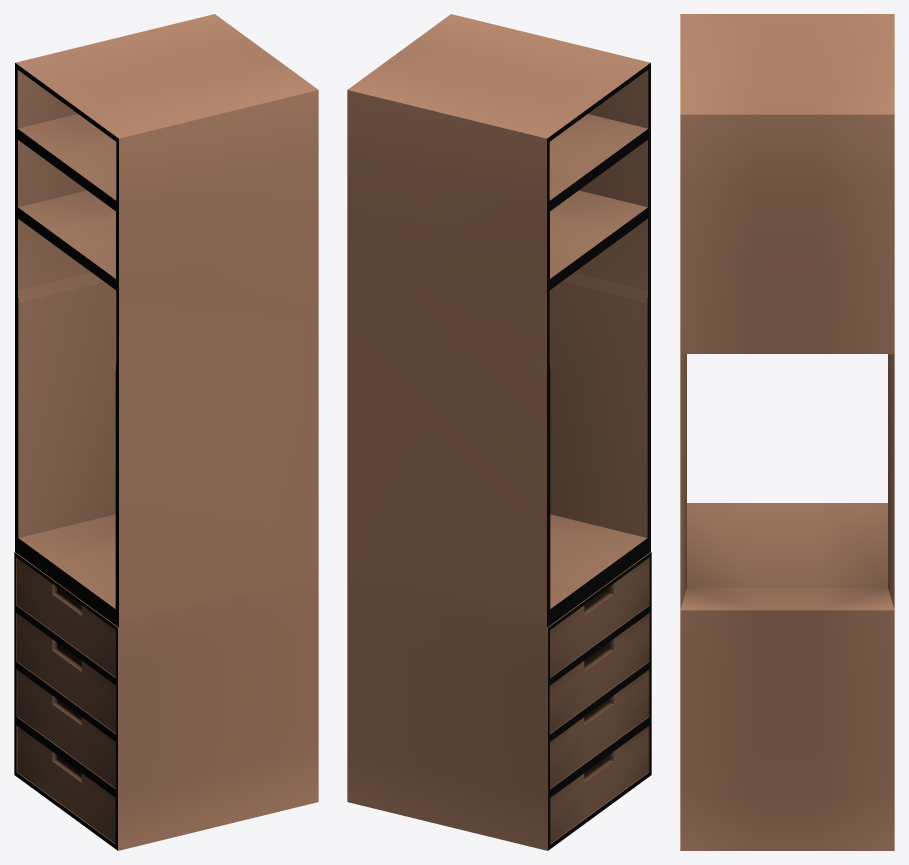
The model's file is SmallShelf.fbx.
3 views of the same model, side by side, from view 1: azimuth 30°, elevation 25°; view 2: azimuth 150°, elevation 25°; view 3: azimuth 270°, elevation 25° (orthographic). The views are drawn at different scales.
Visible parts, largest first — view 1: Cube.023; view 2: Cube.023; view 3: Cube.023.
Boxes of the visible parts, x1,y1,x2,y2 form: Cube.023: [14, 14, 318, 850]; Cube.023: [347, 14, 651, 850]; Cube.023: [680, 14, 894, 850].
Size of the model in its own units: 4.27 by 4.76 by 16.16.
